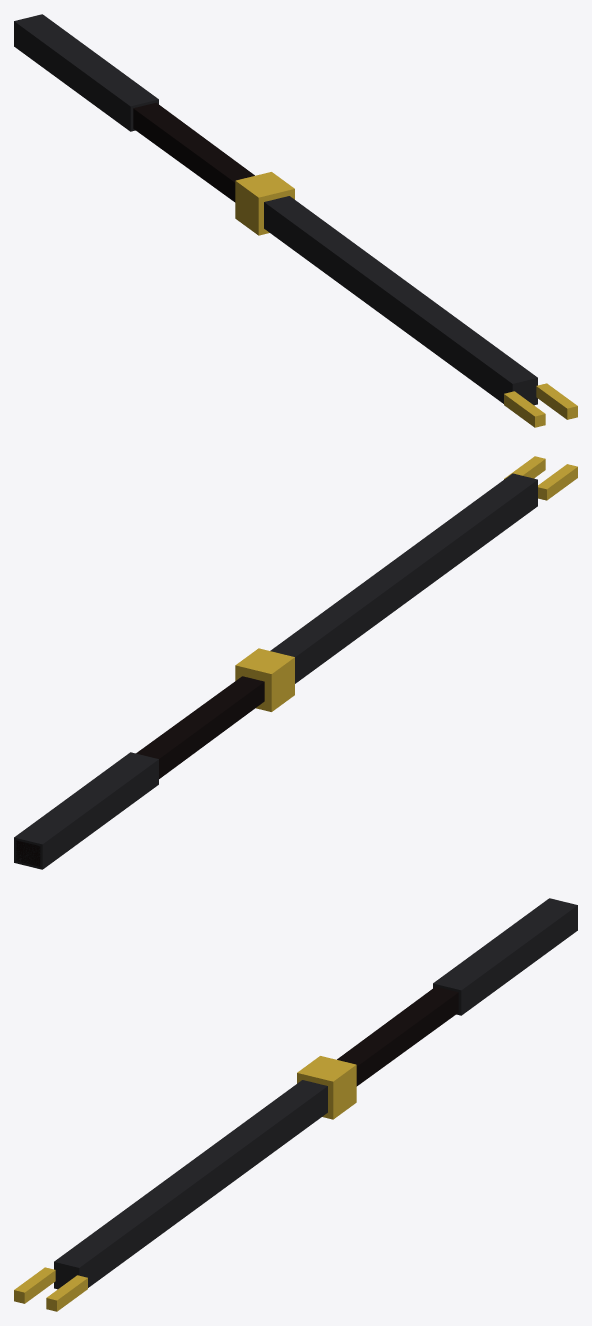
The model's file is stun_baton.glb.
The picture shows the model from 3 angles, top to bottom: view 1: azimuth 30°, elevation 25°; view 2: azimuth 150°, elevation 25°; view 3: azimuth 330°, elevation 25°; orthographic projection.
Visible parts, largest first — view 1: stun_baton; view 2: stun_baton; view 3: stun_baton.
Boxes of the visible parts, box(x1,y1,x2,y2) form: stun_baton: box(14, 14, 577, 427); stun_baton: box(14, 456, 577, 869); stun_baton: box(14, 898, 577, 1311).
Bounding box in the file's own units: 0.032 × 0.027 × 0.68.
